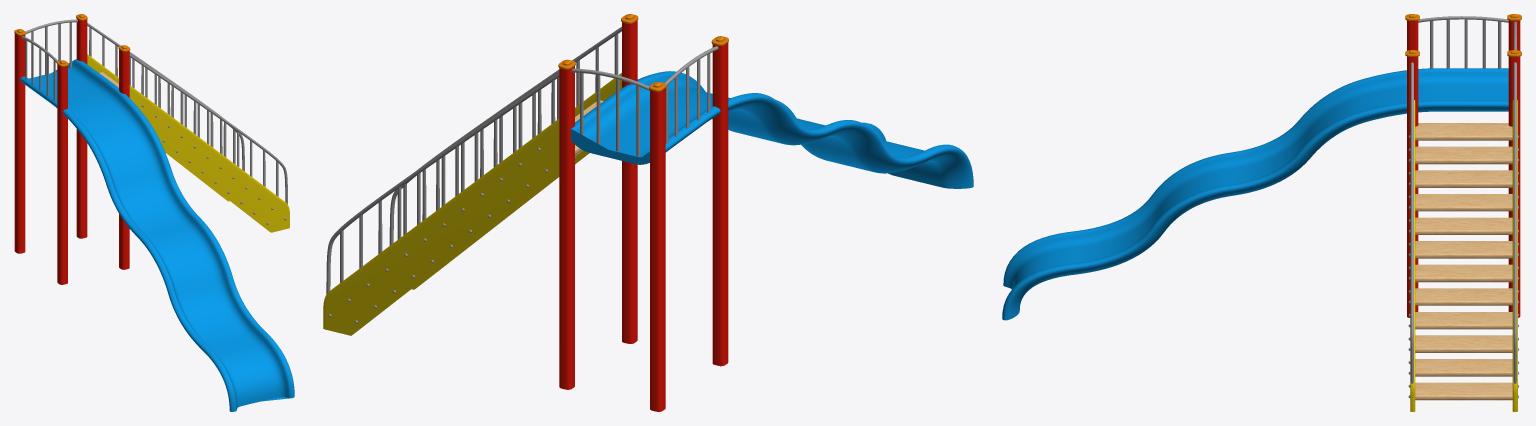
Rendered from Slider.fbx.
The picture shows the model from 3 angles, left to right: view 1: azimuth 30°, elevation 25°; view 2: azimuth 150°, elevation 25°; view 3: azimuth 270°, elevation 25°; orthographic projection. The views are drawn at different scales.
Visible parts, largest first — view 1: NurbsPath, PERILO, STAIRS, Cylinder.005, NAVERSHIE; view 2: PERILO, NurbsPath, STAIRS, Cylinder.005; view 3: NurbsPath, STUPKA, Cylinder.005, PERILO, STAIRS.
Part boxes in pixels (<box>): NurbsPath: <box>20,59,294,411</box>; PERILO: <box>14,18,129,284</box>; STAIRS: <box>87,54,289,232</box>; Cylinder.005: <box>21,19,287,204</box>; NAVERSHIE: <box>14,14,130,66</box>; PERILO: <box>559,20,728,411</box>; NurbsPath: <box>571,71,973,188</box>; STAIRS: <box>323,73,621,335</box>; Cylinder.005: <box>326,26,718,294</box>; NurbsPath: <box>1002,68,1508,320</box>; STUPKA: <box>1415,123,1512,400</box>; Cylinder.005: <box>1410,16,1516,383</box>; PERILO: <box>1407,20,1520,317</box>; STAIRS: <box>1410,100,1517,411</box>.
Bounding box in the file's own units: 703 × 657 × 1146.
